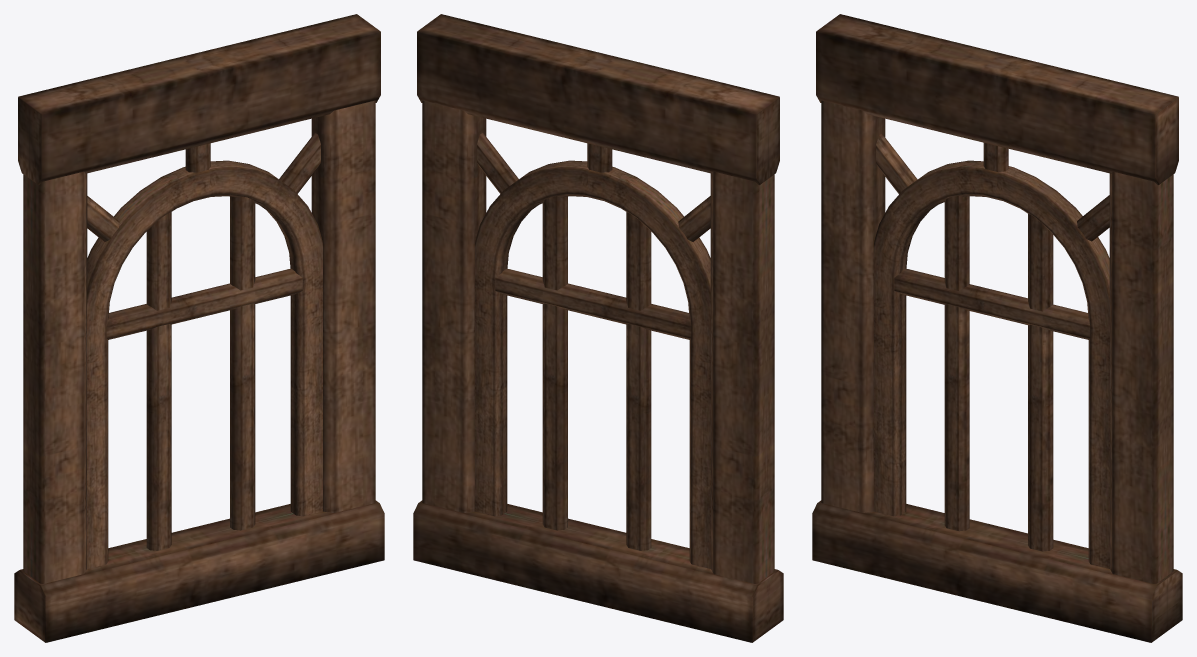
File: t2_window_ornamented_wooden_frame.glb
3 renders of one model, left to right at view 1: azimuth 30°, elevation 25°; view 2: azimuth 150°, elevation 25°; view 3: azimuth 330°, elevation 25°, orthographic.
Visible parts, largest first — view 1: buildings_set_Stone_Castle_01_props_windowframe_01; view 2: buildings_set_Stone_Castle_01_props_windowframe_01; view 3: buildings_set_Stone_Castle_01_props_windowframe_01.
Boxes of the visible parts, x1,y1,x2,y2 form: buildings_set_Stone_Castle_01_props_windowframe_01: [14, 14, 384, 642]; buildings_set_Stone_Castle_01_props_windowframe_01: [413, 14, 783, 642]; buildings_set_Stone_Castle_01_props_windowframe_01: [812, 14, 1182, 642].
Size of the model in its own units: 1.01 by 1.5 by 0.1651.
1 material, 1 textured.
